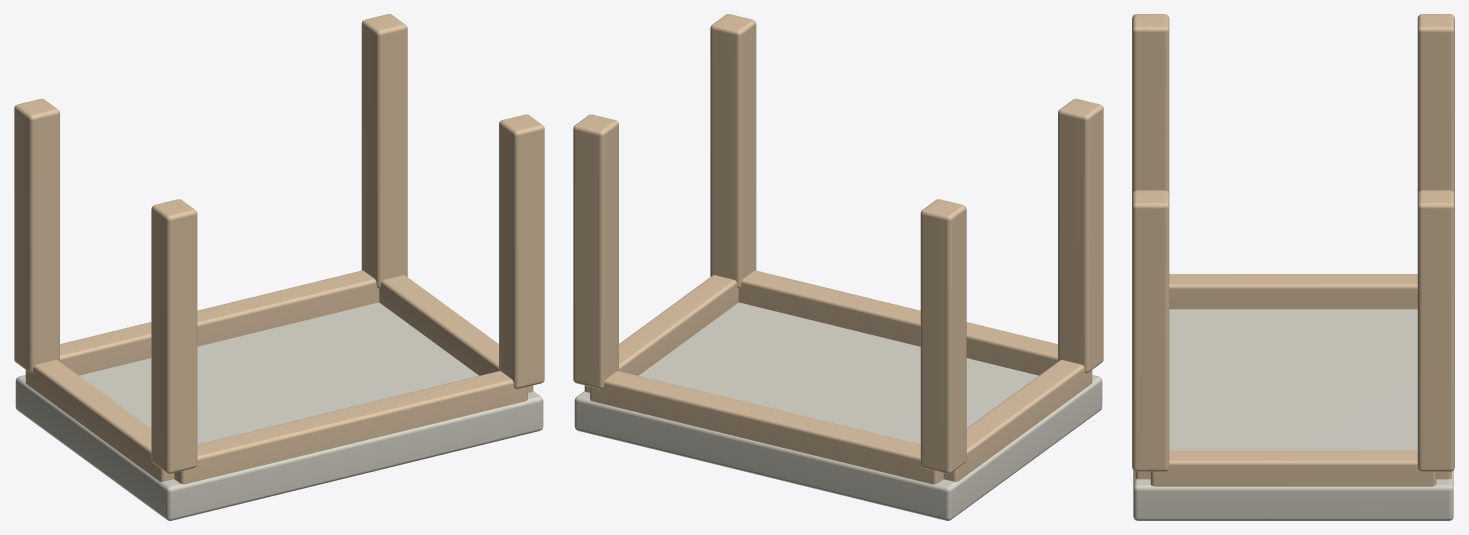
File: water-point-frame.glb
The picture shows the model from 3 angles, left to right: view 1: azimuth 30°, elevation 25°; view 2: azimuth 150°, elevation 25°; view 3: azimuth 270°, elevation 25°; orthographic projection. The views are drawn at different scales.
Parts seen in each view (by area): view 1: Rounded stone footing.013, Corner post.036, Sill beam.052, Corner post.039, Corner post.038, Corner post.037, Sill beam.053, Sill beam.054, Sill beam.055; view 2: Rounded stone footing.013, Corner post.037, Sill beam.053, Corner post.038, Corner post.039, Corner post.036, Sill beam.052, Sill beam.054, Sill beam.055; view 3: Rounded stone footing.013, Corner post.038, Corner post.039, Sill beam.055, Sill beam.054, Corner post.036, Corner post.037.
Part boxes in pixels (box(x1,y1,x2,y2)): Rounded stone footing.013: box(15, 302, 543, 520); Corner post.036: box(151, 199, 197, 473); Sill beam.052: box(174, 371, 527, 484); Corner post.039: box(361, 14, 407, 288); Corner post.038: box(499, 114, 544, 388); Corner post.037: box(14, 98, 59, 373); Sill beam.053: box(60, 270, 379, 375); Sill beam.054: box(25, 360, 174, 481); Sill beam.055: box(379, 275, 533, 392); Rounded stone footing.013: box(574, 302, 1102, 520); Corner post.037: box(920, 199, 966, 473); Sill beam.053: box(590, 371, 943, 484); Corner post.038: box(710, 14, 756, 288); Corner post.039: box(573, 114, 618, 388); Corner post.036: box(1058, 98, 1103, 373); Sill beam.052: box(738, 270, 1057, 375); Sill beam.054: box(943, 360, 1092, 481); Sill beam.055: box(584, 275, 738, 392); Rounded stone footing.013: box(1133, 309, 1453, 520); Corner post.038: box(1132, 190, 1169, 471); Corner post.039: box(1417, 190, 1454, 471); Sill beam.055: box(1150, 450, 1436, 486); Sill beam.054: box(1169, 274, 1417, 309); Corner post.036: box(1132, 14, 1169, 194); Corner post.037: box(1417, 14, 1454, 194).
Size of the model in its own units: 2.07 by 1.6 by 1.47.
